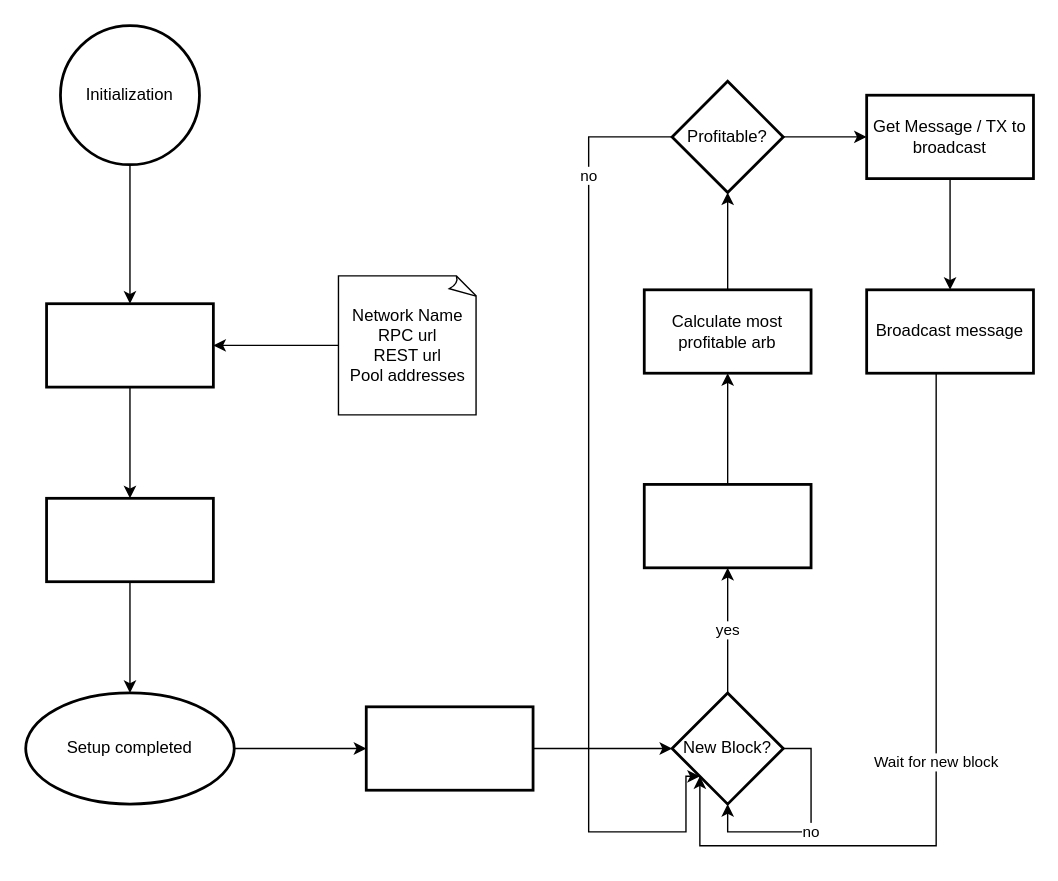
The diagram is 1058 pixels wide and 881 high, and some of its shapes have lost their labels. The shapes that lost their labels are listed below. From the top down, each one's centre as x and y in pixels, then its label:
(x=129, y=345): Read Setup File
(x=129, y=539): Calculate all possible paths
(x=727, y=525): Query pools (REST/RPC)
(x=449, y=748): Subscribe to node via websocket
